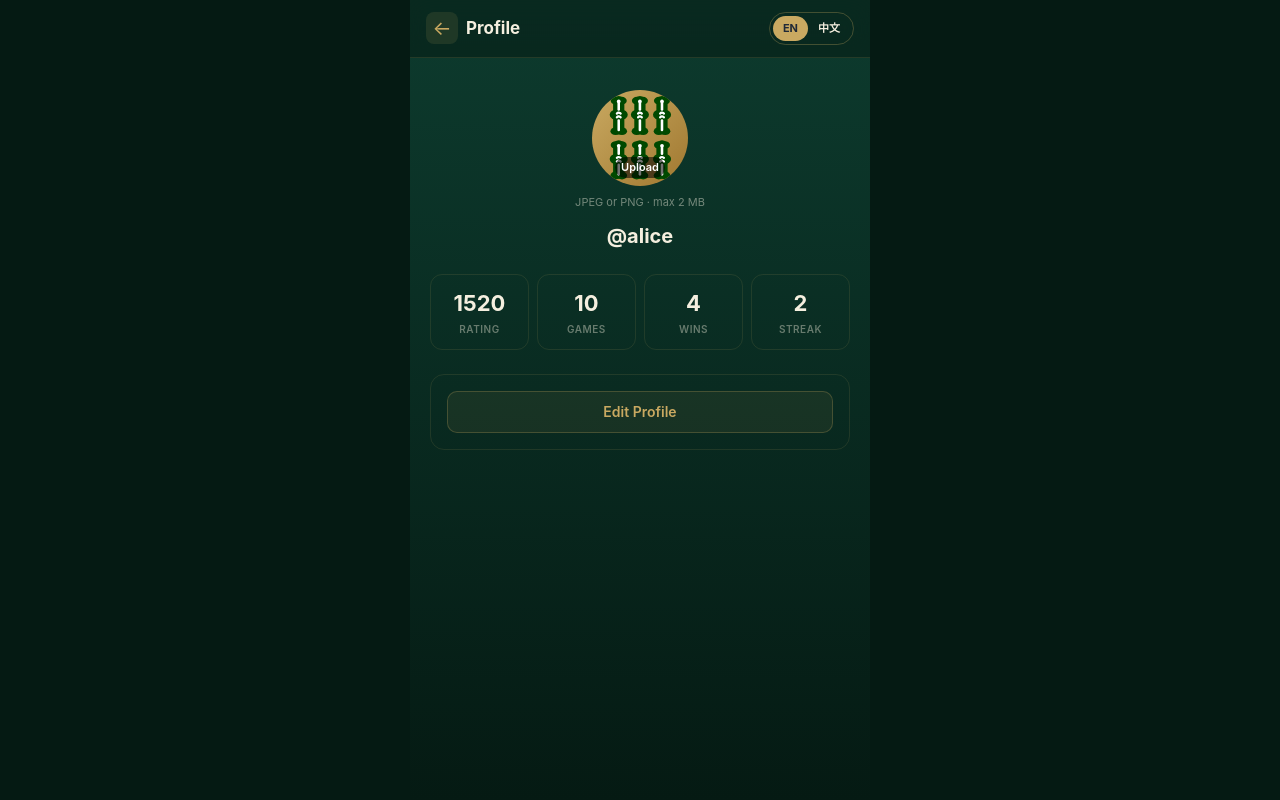
it: ProfilePage › shows an error message when updateProfile fails
The width and height of the screenshot is (1280, 800).
Click the button "Edit Profile" at {"x": 640, "y": 412}, box [447,391,833,433]
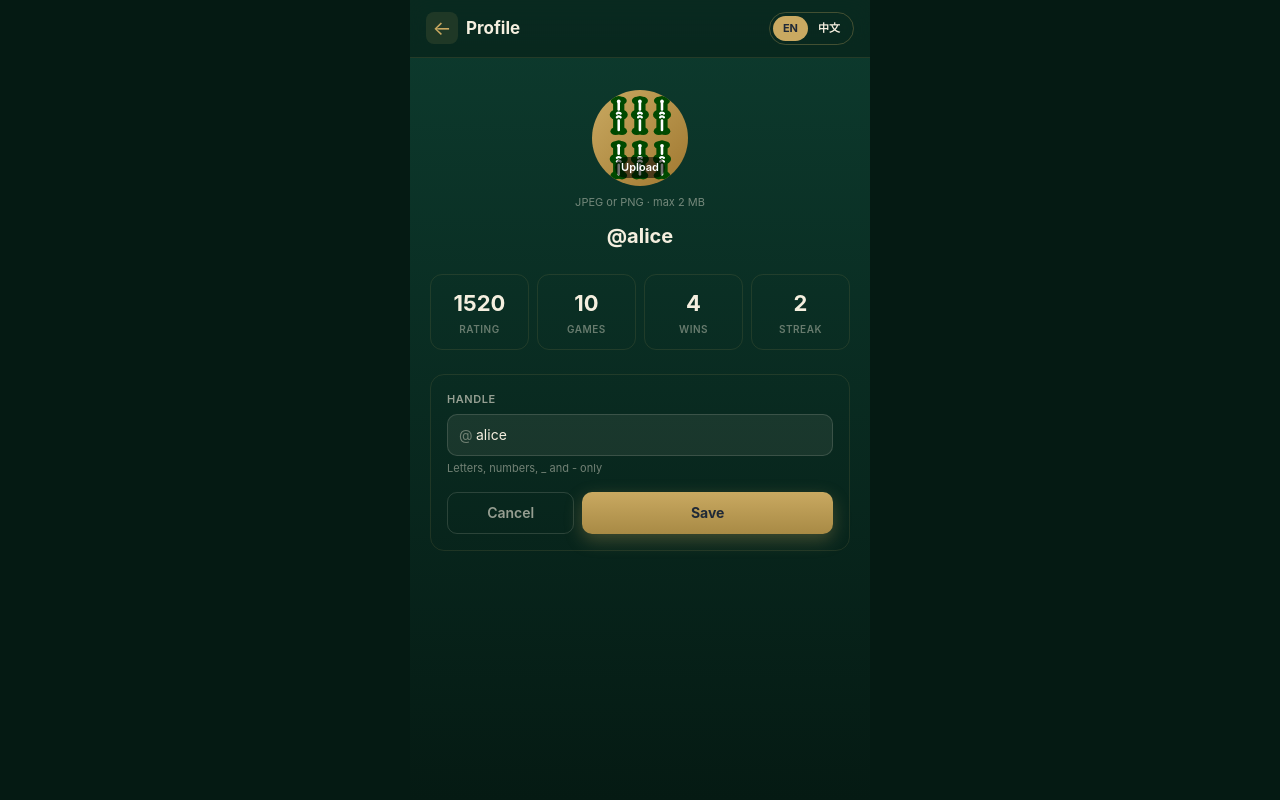
Click the button "Save" at {"x": 708, "y": 513}, box [582,492,833,534]
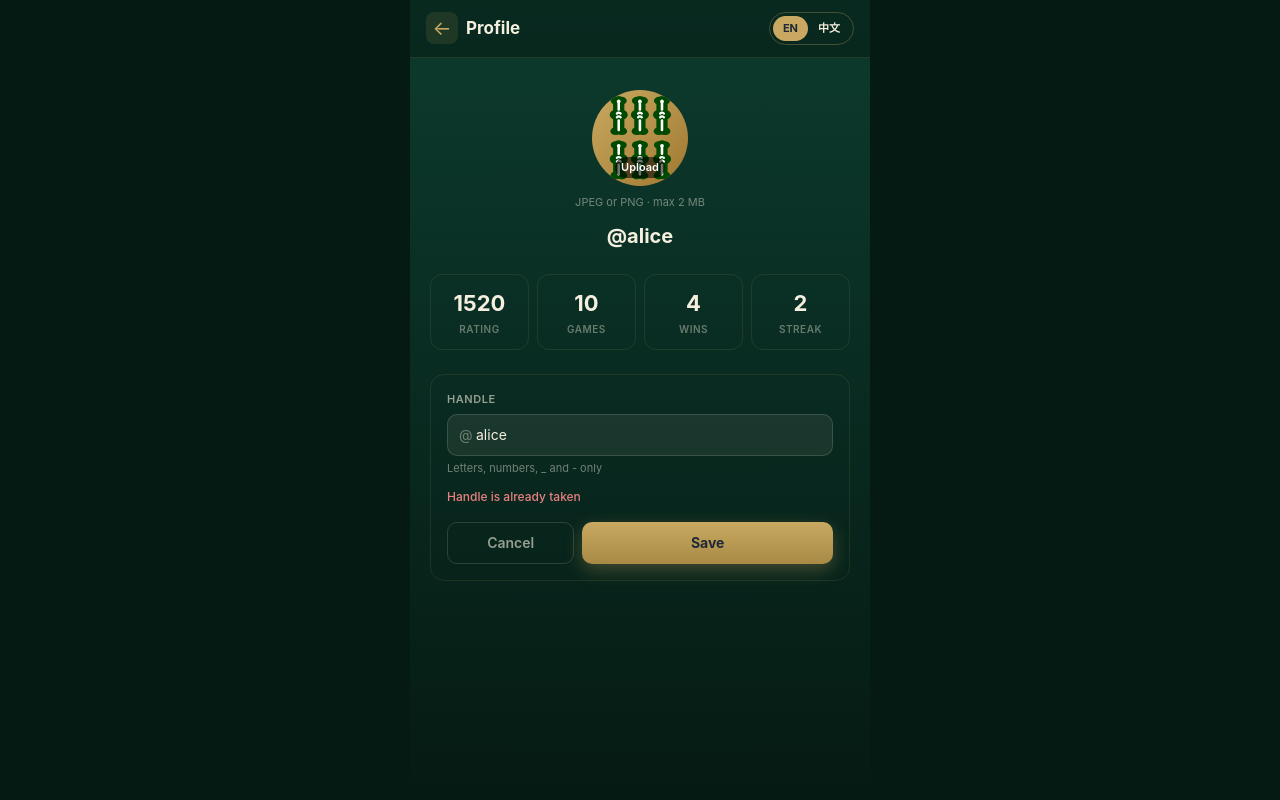
Expected: the message reads "Handle is already taken", [447,489,581,504]
